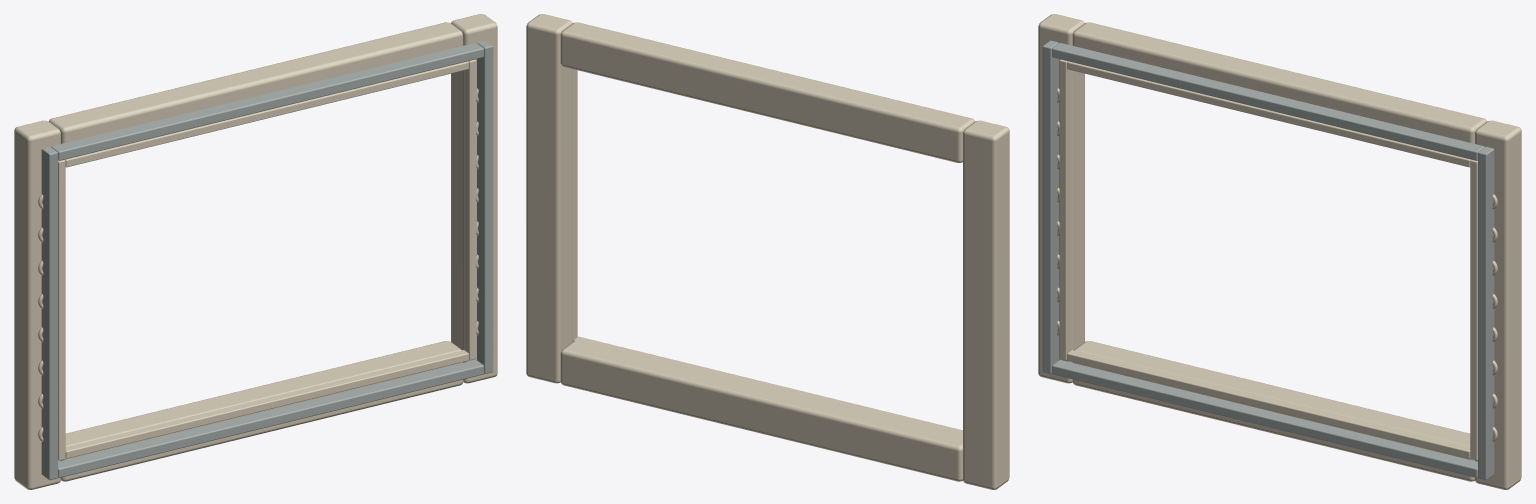
File: museum-conservation-and-art-restoration-museum-conserv-3391c5b9__31891.glb
3 views of the same model, side by side, from view 1: azimuth 30°, elevation 25°; view 2: azimuth 150°, elevation 25°; view 3: azimuth 330°, elevation 25° (orthographic).
Parts seen in each view (by area): view 1: museum-conservation-and-art-restoration-detached-decorative- (×2); view 2: museum-conservation-and-art-restoration-detached-decorative-; view 3: museum-conservation-and-art-restoration-detached-decorative- (×2).
Boxes of the visible parts, x1,y1,x2,y2 form: museum-conservation-and-art-restoration-detached-decorative- (×2): [14, 14, 497, 489]; museum-conservation-and-art-restoration-detached-decorative-: [526, 14, 1009, 489]; museum-conservation-and-art-restoration-detached-decorative- (×2): [1038, 14, 1521, 489].
Bounding box in the file's own units: 1.78 × 1.28 × 0.155.
